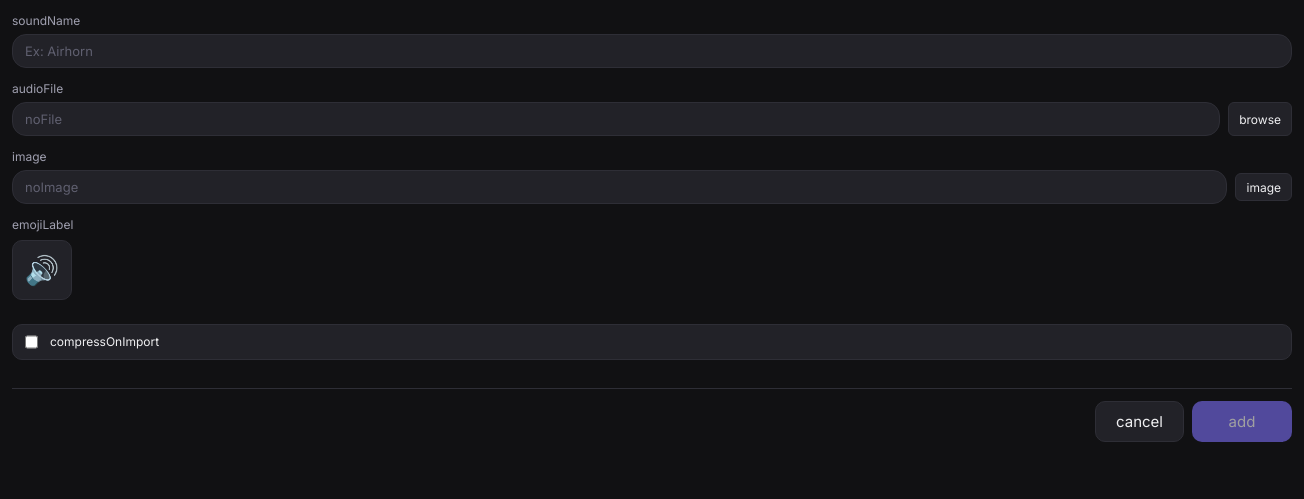
Test: ManualTab › pick file › devrait remplir le nom automatiquement
Click the button "browse" at (1260, 119), box [1228,102,1292,136]
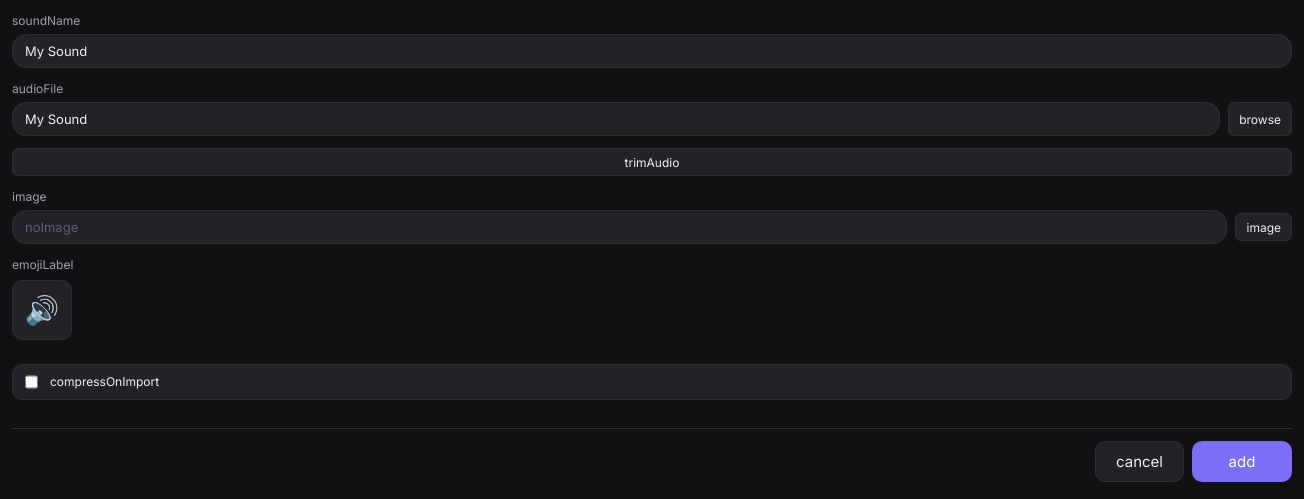
Now the field showing "My Sound" below "soundName" is shown, box [12,34,1292,68]
